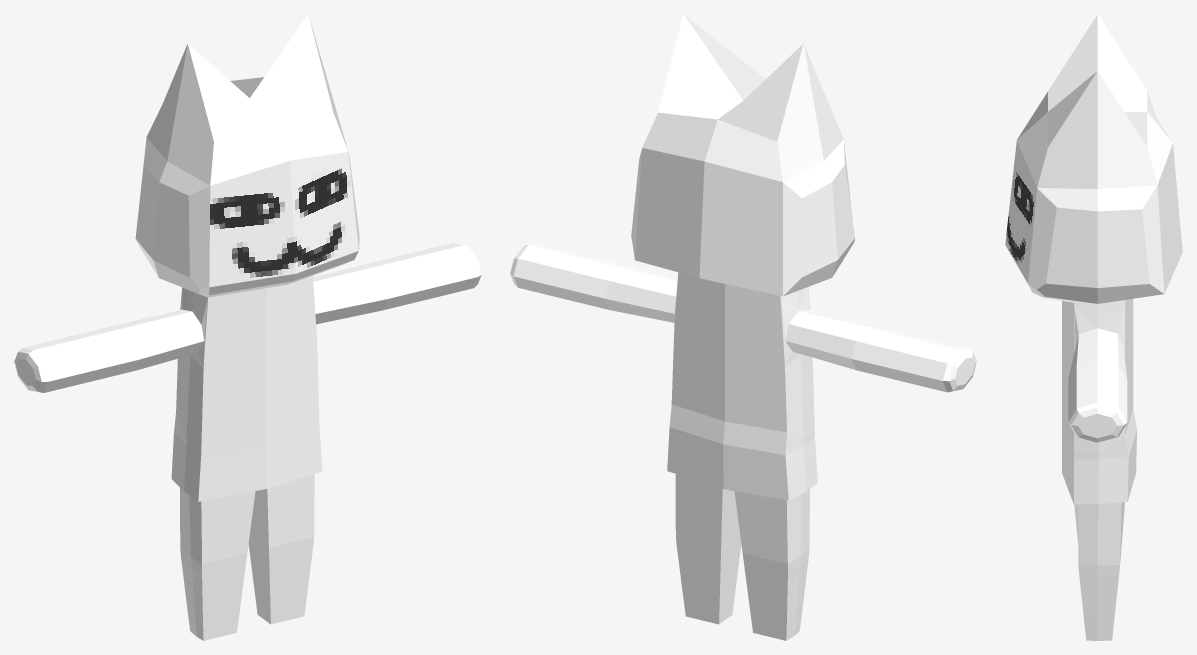
The model's file is sly.glb.
3 renders of one model, left to right at view 1: azimuth 30°, elevation 25°; view 2: azimuth 150°, elevation 25°; view 3: azimuth 270°, elevation 25°, orthographic. The views are drawn at different scales.
Visible parts, largest first — view 1: sly; view 2: sly; view 3: sly.
Part boxes in pixels (bbox=[...]): sly: bbox=[14, 14, 481, 640]; sly: bbox=[510, 14, 976, 640]; sly: bbox=[1005, 14, 1182, 640].
Bounding box in the file's own units: 3.43 × 4.39 × 1.23.
1 material, 1 textured.
